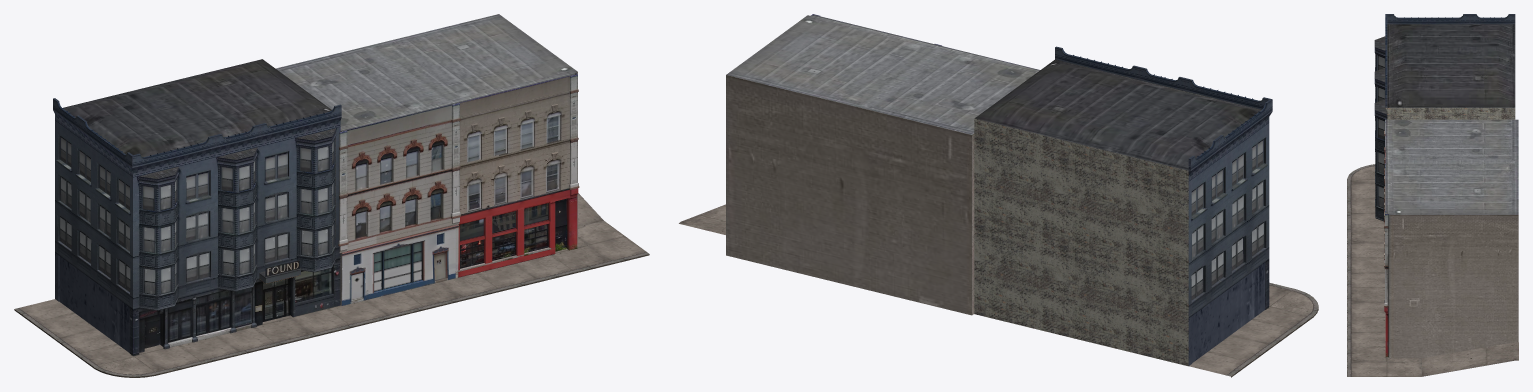
File: chicago-transformed.glb
3 renders of one model, left to right at view 1: azimuth 30°, elevation 25°; view 2: azimuth 150°, elevation 25°; view 3: azimuth 270°, elevation 25°, orthographic. The views are drawn at different scales.
Parts seen in each view (by area): view 1: Building black_3, Building_6, Sidewalks_2; view 2: Building_6, Bricks_4, Building black_3, Sidewalks_2; view 3: Building_6, Building black_3, Sidewalks_2, Bricks_4.
Boxes of the visible parts, bbox=[...] form: Building black_3: bbox=[53, 59, 341, 355]; Building_6: bbox=[275, 14, 579, 305]; Sidewalks_2: bbox=[14, 193, 649, 377]; Building_6: bbox=[726, 14, 1039, 315]; Bricks_4: bbox=[974, 118, 1188, 366]; Building black_3: bbox=[974, 46, 1272, 365]; Sidewalks_2: bbox=[679, 204, 1318, 377]; Building_6: bbox=[1384, 118, 1518, 358]; Building black_3: bbox=[1374, 14, 1515, 221]; Sidewalks_2: bbox=[1347, 164, 1518, 376]; Bricks_4: bbox=[1386, 107, 1515, 119].
Size of the model in its own units: 198 by 71.81 by 67.28.
5 materials, 5 textured.
